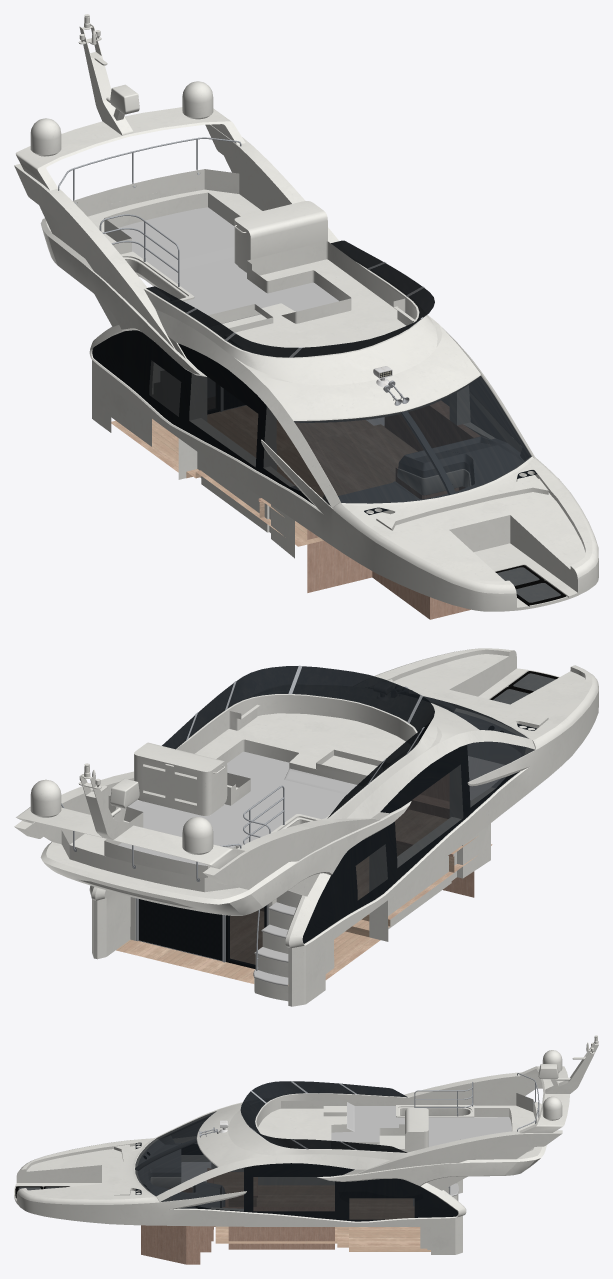
The model's file is Yacht_Base_02.fbx.
3 views of the same model, one above another, from view 1: azimuth 30°, elevation 25°; view 2: azimuth 150°, elevation 25°; view 3: azimuth 270°, elevation 25° (orthographic). The views are drawn at different scales.
Visible parts, largest first — view 1: Yacht_Base_02, Yacht_Glass, Yacht_Inside, Second_floor, Black_glass_02; view 2: Yacht_Base_02, Yacht_Inside, Yacht_Glass, Black_glass_02, Second_floor, Slinding_Wall_01, Door; view 3: Yacht_Base_02, Yacht_Glass, Yacht_Inside, Second_floor, Black_glass_02.
Boxes of the visible parts, x1=… form: Yacht_Base_02: x1=14, y1=14, x2=598, y2=611; Yacht_Glass: x1=92, y1=330, x2=531, y2=506; Yacht_Inside: x1=93, y1=330, x2=528, y2=619; Second_floor: x1=111, y1=405, x2=417, y2=546; Black_glass_02: x1=146, y1=240, x2=434, y2=357; Yacht_Base_02: x1=14, y1=648, x2=598, y2=1006; Yacht_Inside: x1=130, y1=711, x2=525, y2=943; Yacht_Glass: x1=302, y1=696, x2=534, y2=943; Black_glass_02: x1=162, y1=666, x2=434, y2=818; Second_floor: x1=116, y1=810, x2=492, y2=985; Slinding_Wall_01: x1=138, y1=899, x2=223, y2=962; Door: x1=224, y1=905, x2=266, y2=969; Yacht_Base_02: x1=14, y1=1035, x2=598, y2=1254; Yacht_Glass: x1=135, y1=1111, x2=457, y2=1221; Yacht_Inside: x1=138, y1=1116, x2=457, y2=1264; Second_floor: x1=214, y1=1172, x2=430, y2=1251; Black_glass_02: x1=240, y1=1081, x2=407, y2=1152.
Bounding box in the file's own units: 385 × 573 × 1440.
